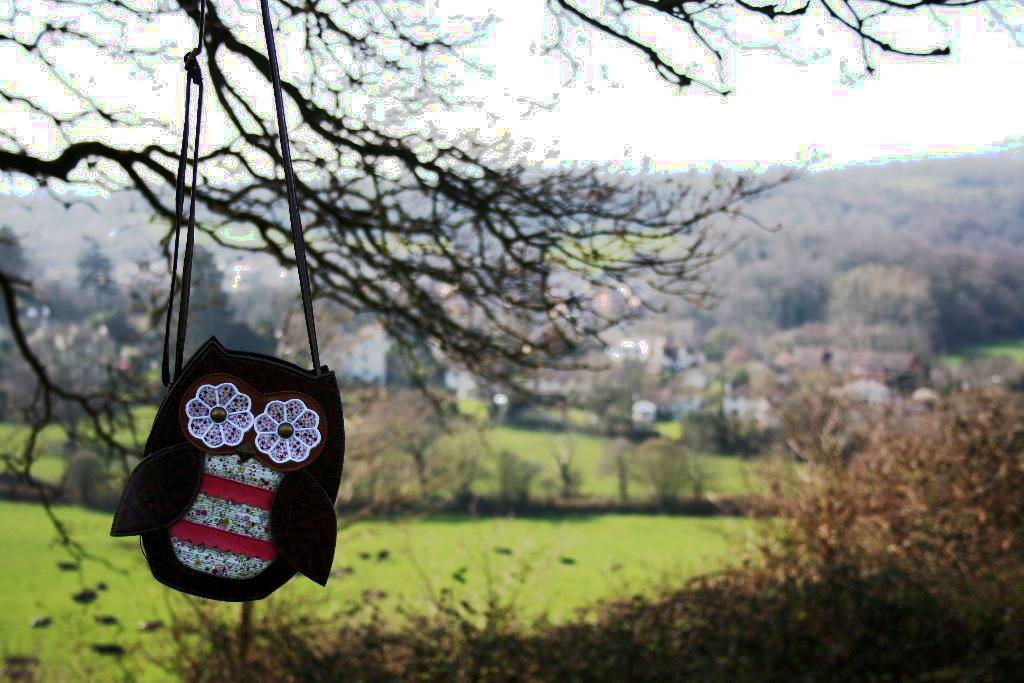Owl: (108, 335, 347, 603)
